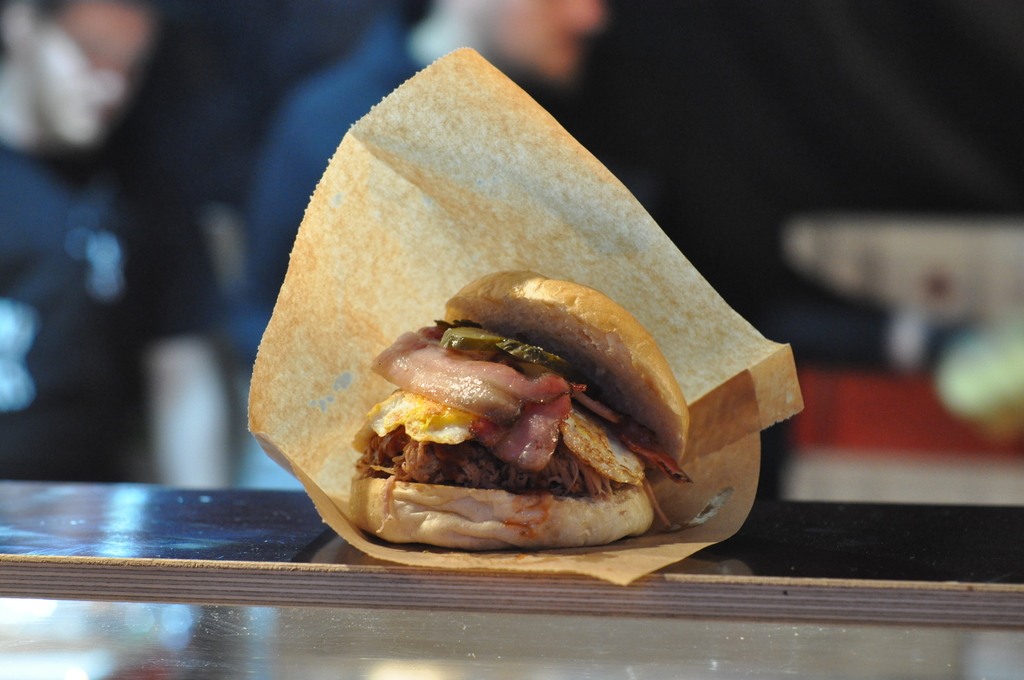Hamburger: (347, 268, 692, 553)
